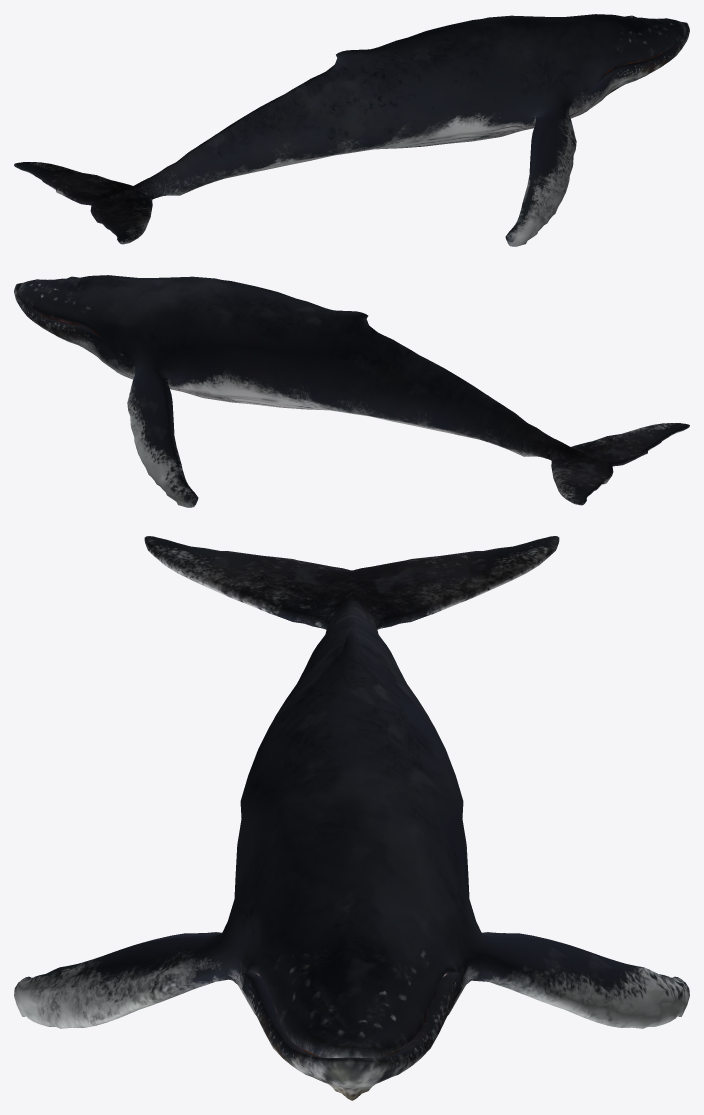
The model's file is humpback.glb.
The picture shows the model from 3 angles, top to bottom: view 1: azimuth 30°, elevation 25°; view 2: azimuth 150°, elevation 25°; view 3: azimuth 270°, elevation 25°; orthographic projection. The views are drawn at different scales.
Visible parts, largest first — view 1: humpback; view 2: humpback; view 3: humpback.
Part boxes in pixels (x1=…): humpback: x1=14, y1=14, x2=689, y2=246; humpback: x1=14, y1=275, x2=689, y2=507; humpback: x1=14, y1=536, x2=689, y2=1100.
Bounding box in the file's own units: 1 × 0.2366 × 0.4909.
Materials: 3 (2 with a texture image).
